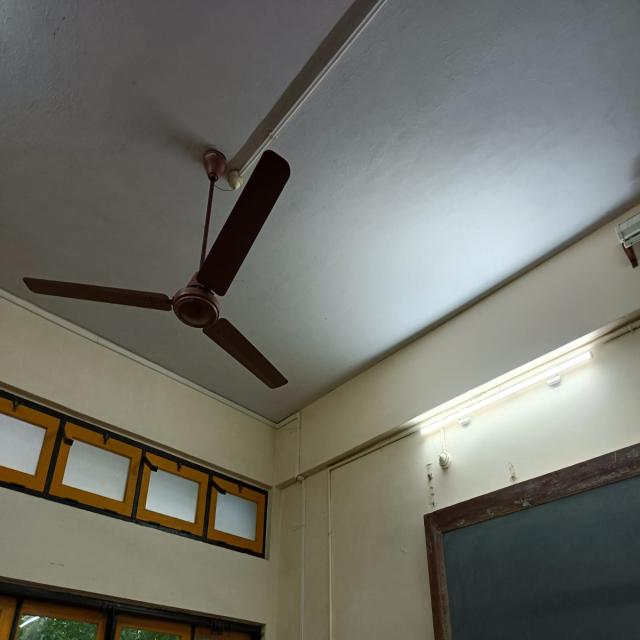fan_off: (22, 152, 291, 398)
tubelight_on: (414, 328, 596, 440)
